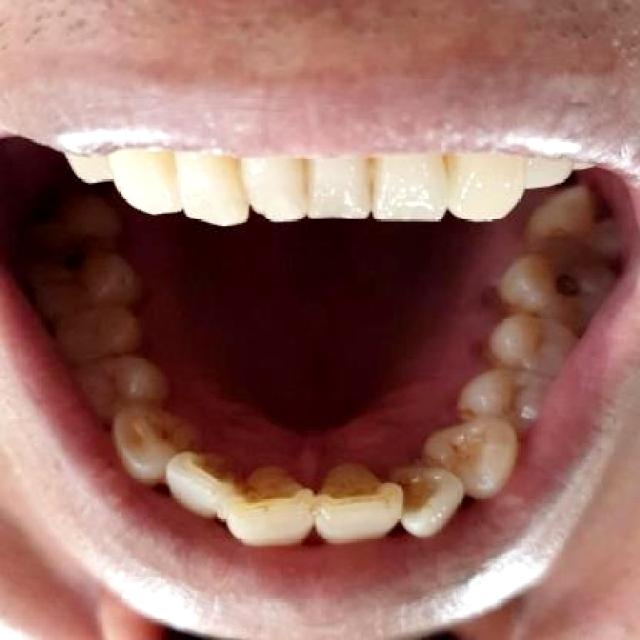Plaque: (53, 246, 105, 290)
